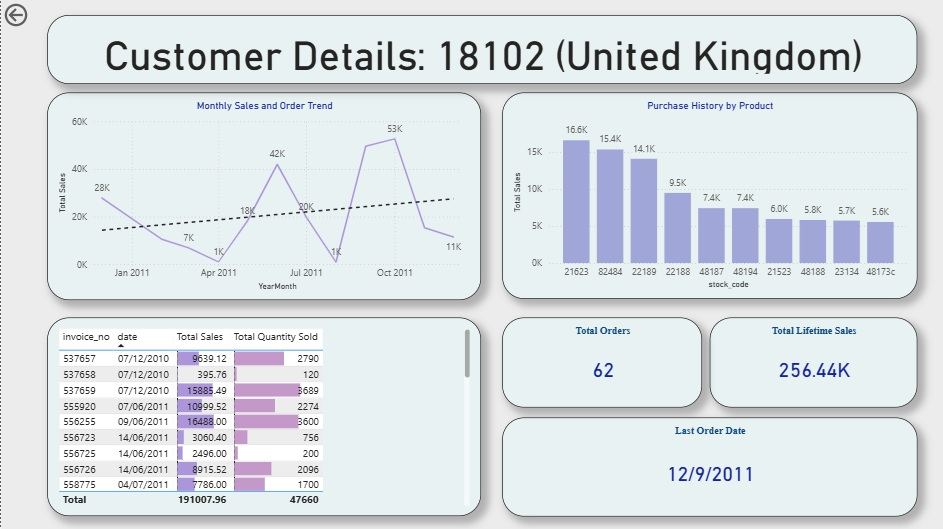

The dashboard page shown, as its layout file describes it:
{"tool":"powerbi","page":{"name":"Drill-through CustomerID","canvas":[1280,720],"ordinal":2},"visuals":[{"type":"tableEx","fields":{"Values":["public fact_sales.invoice_no","public fact_sales.date","public fact_sales.Total Sales","public fact_sales.Total Quantity Sold"]},"box":[61.7,423.3,578.3,265],"z":0},{"type":"card","title":"Total Orders","fields":{"Values":["public fact_sales.Customer Orders"]},"box":[668.3,423.3,266.7,120],"z":1000},{"type":"card","title":"Total Lifetime Sales","fields":{"Values":["public fact_sales.Customer Lifetime Sales"]},"box":[945,423.3,276.7,120],"z":2000},{"type":"card","title":"Last Order Date","fields":{"Values":["public fact_sales.Last Order Date"]},"box":[668.3,556.7,553.3,131.7],"z":3000},{"type":"lineChart","title":"Monthly Sales and Order Trend","fields":{"Y":["public fact_sales.Total Sales"],"Category":["public fact_sales.YearMonth"]},"box":[61.7,123.3,578.3,276.7],"z":4000},{"type":"card","fields":{"Values":["public fact_sales.DT Title Customer"]},"box":[61.7,20,1160,91.7],"z":5000},{"type":"clusteredColumnChart","title":"Purchase History by Product","fields":{"Category":["public dim_product.stock_code"],"Y":["public fact_sales.Total Sales"]},"box":[668.3,123.3,553.3,275],"z":6000},{"type":"actionButton","box":[0,0,100,40],"z":7000}]}

Visuals, with their boxes in screenshot pixels (x1, y1, x2, y2):
tableEx - public fact_sales.invoice_no x public fact_sales.date: 44:315:477:514
"Total Orders" card: 499:315:699:405
"Total Lifetime Sales" card: 706:315:914:405
"Last Order Date" card: 499:415:913:514
"Monthly Sales and Order Trend" lineChart: 44:90:477:297
card - public fact_sales.DT Title Customer: 44:13:914:81
"Purchase History by Product" clusteredColumnChart: 499:90:913:296
actionButton: 0:0:73:28
